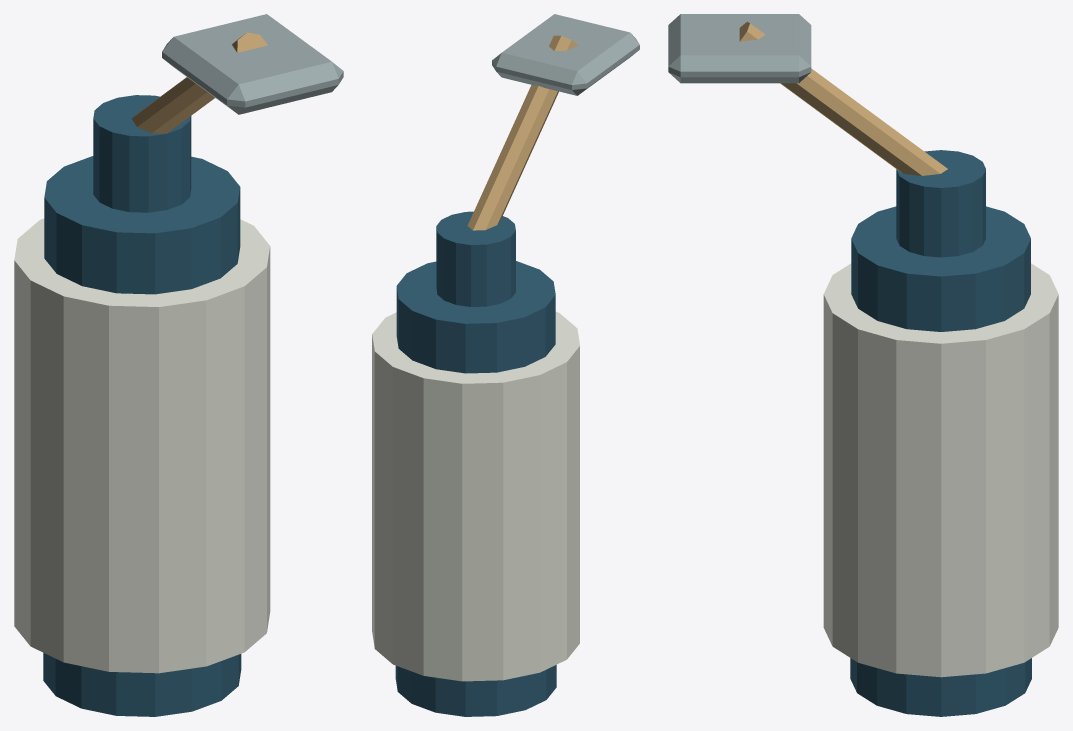
File: fender.glb
The picture shows the model from 3 angles, left to right: view 1: azimuth 30°, elevation 25°; view 2: azimuth 150°, elevation 25°; view 3: azimuth 270°, elevation 25°; orthographic projection. The views are drawn at different scales.
Visible parts, largest first — view 1: fender; view 2: fender; view 3: fender.
Part boxes in pixels (box(x1,y1,x2,y2)): fender: box(14, 14, 343, 716); fender: box(372, 14, 639, 716); fender: box(668, 14, 1058, 716).
Size of the model in its own units: 0.23 by 0.7074 by 0.382.
